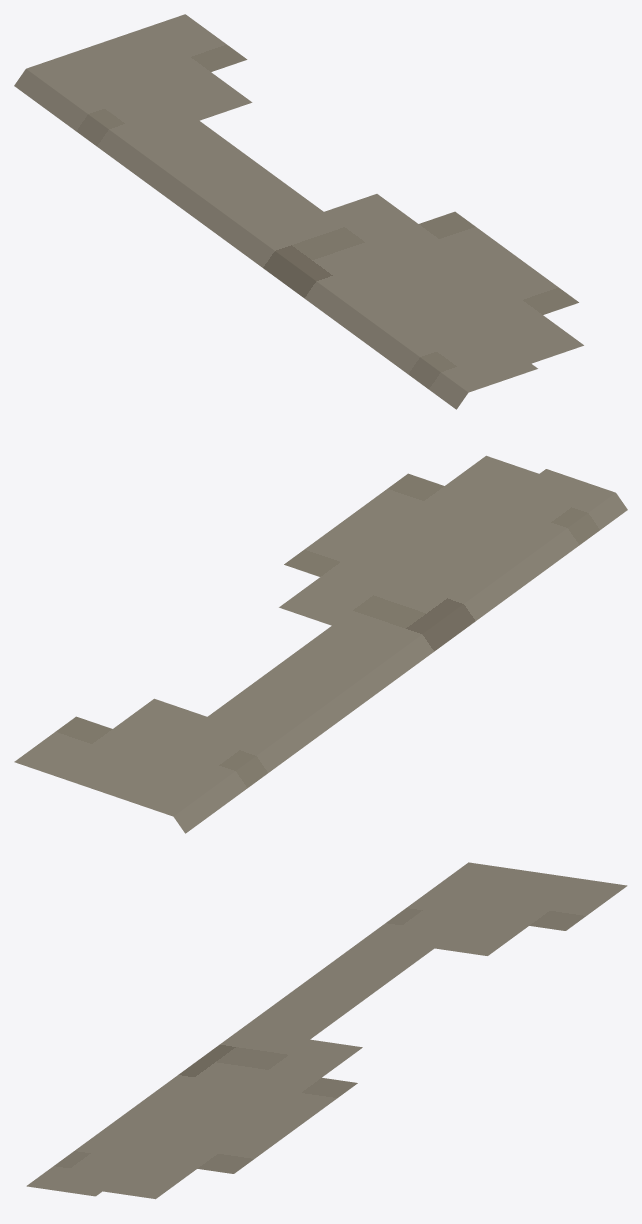
3 renders of one model, top to bottom at view 1: azimuth 30°, elevation 25°; view 2: azimuth 150°, elevation 25°; view 3: azimuth 330°, elevation 25°, orthographic.
Bounding box in the file's own units: 0.2236 × 0.0373 × 1.
Materials: 1 (1 with a texture image).
